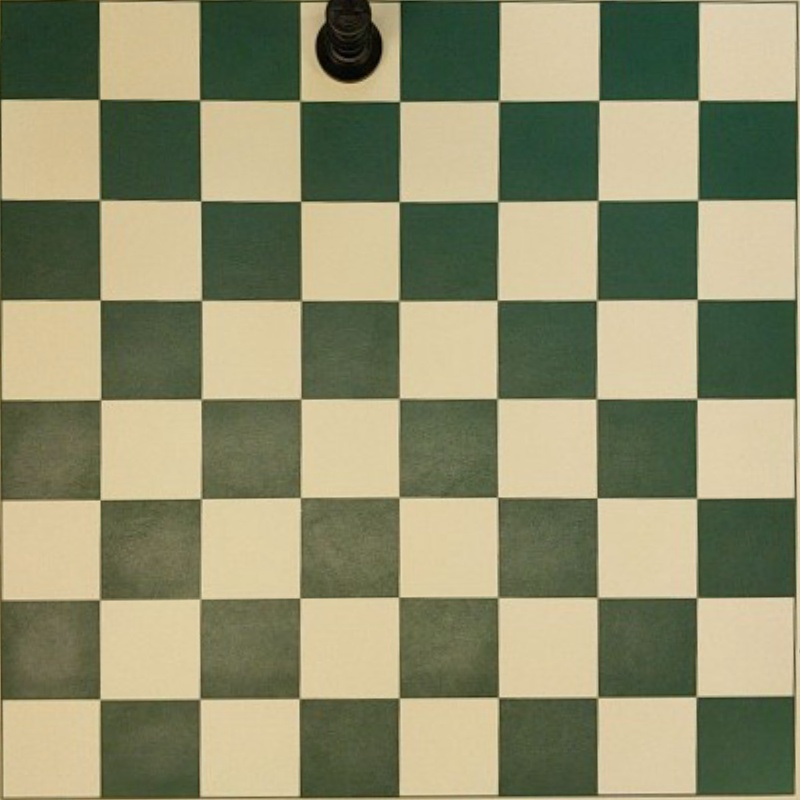black-king: (316, 0, 382, 81)
